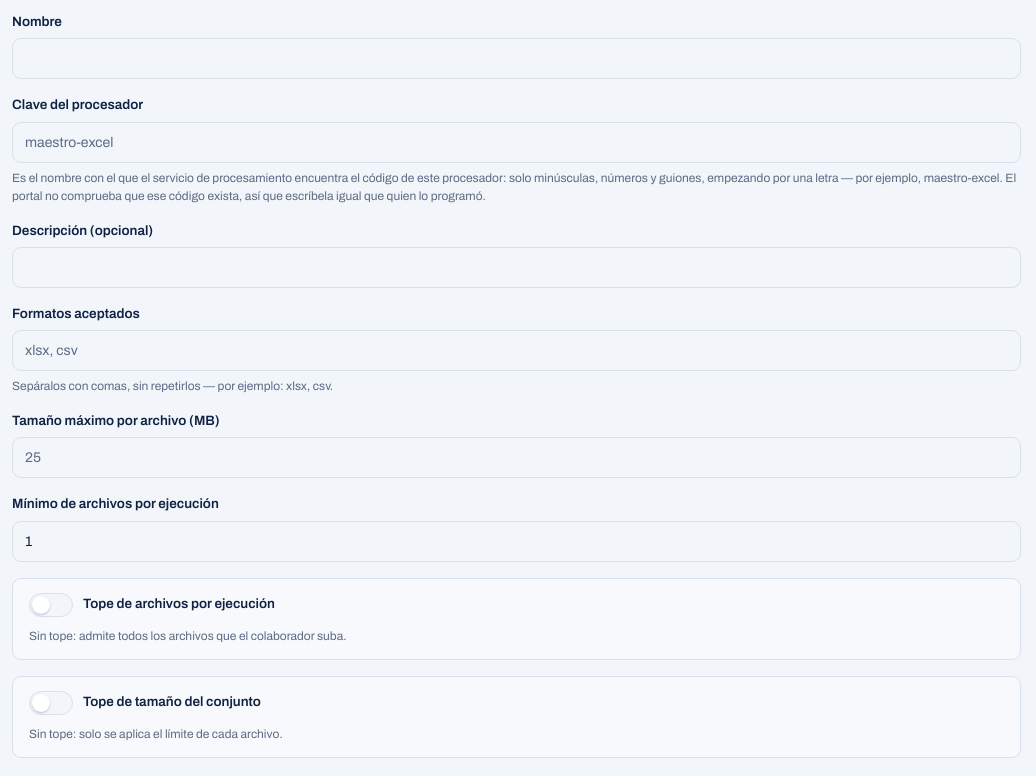
Test: <ProcesadorForm /> › shows the formats as they will be stored, using the schema's own normaliser
Type "XLSX, .csv , xlsx" into the field labelled "Formatos aceptados" at (516, 350), box [12,330,1021,371]
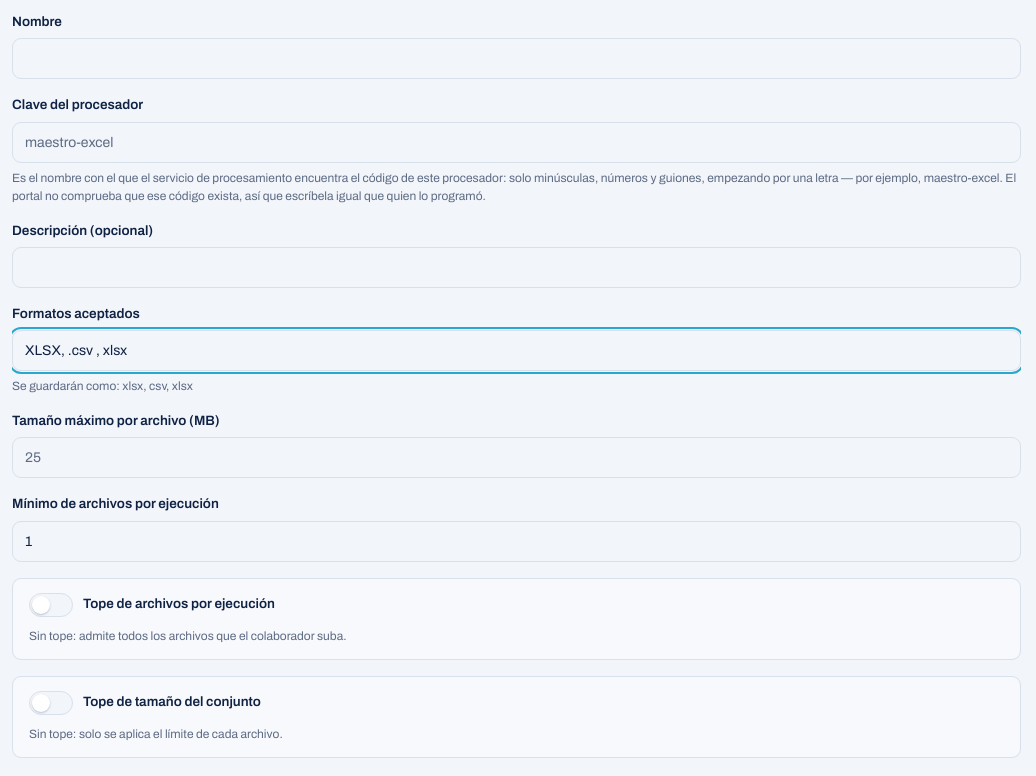
Expected: the text "Se guardarán como: xlsx, csv, xlsx" is shown, [12,379,193,393]
